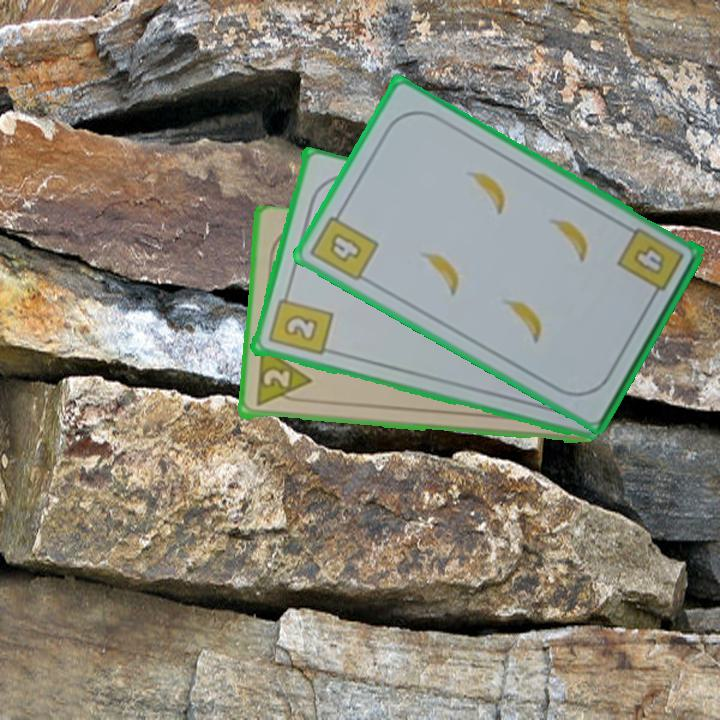2b: (264, 287, 335, 359)
2p: (252, 346, 313, 410)
4b: (306, 204, 382, 284), (613, 224, 687, 304)
